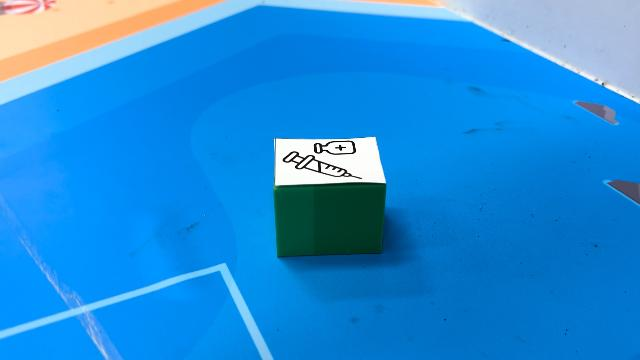syringe: (273, 135, 387, 256)
